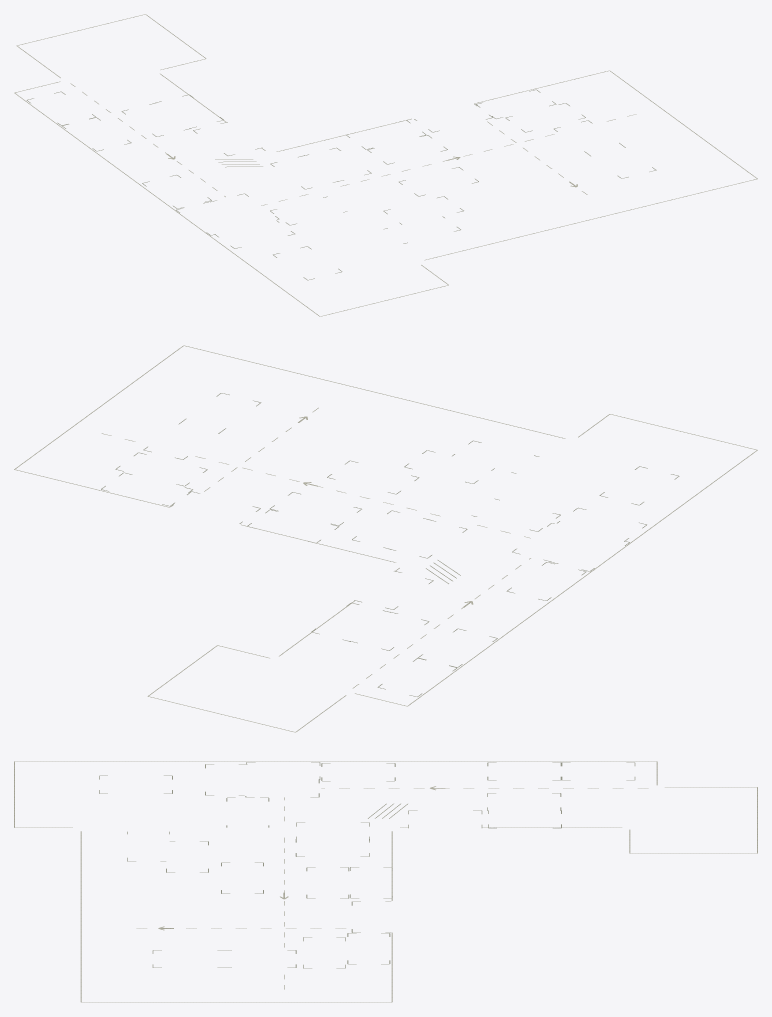
File: SM_QD_Dock_WhiteMarkings.fbx
The picture shows the model from 3 angles, top to bottom: view 1: azimuth 30°, elevation 25°; view 2: azimuth 150°, elevation 25°; view 3: azimuth 270°, elevation 25°; orthographic projection. The views are drawn at different scales.
Visible parts, largest first — view 1: SM_QD_Dock_WhiteMarkings; view 2: SM_QD_Dock_WhiteMarkings; view 3: SM_QD_Dock_WhiteMarkings.
Part boxes in pixels (left/top/right/bottom): SM_QD_Dock_WhiteMarkings: left=14, top=14, right=757, bottom=316; SM_QD_Dock_WhiteMarkings: left=14, top=345, right=757, bottom=732; SM_QD_Dock_WhiteMarkings: left=14, top=761, right=757, bottom=1002.
Bounding box in the file's own units: 48.15 × 62.78 × 0.
